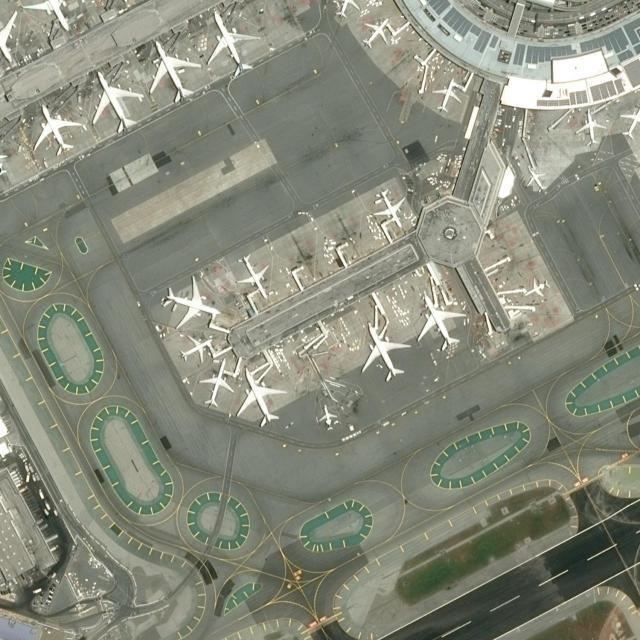Aircraft: (207, 11, 261, 80), (92, 72, 144, 136), (150, 42, 202, 106), (162, 277, 222, 332), (416, 295, 467, 354), (360, 325, 410, 385), (236, 368, 286, 428), (32, 104, 82, 158), (235, 253, 269, 304), (21, 0, 73, 32), (199, 362, 233, 408), (373, 190, 405, 230), (575, 109, 607, 147), (177, 334, 213, 366), (432, 77, 462, 115), (0, 10, 18, 65), (361, 17, 389, 49), (619, 102, 640, 142), (526, 165, 550, 193), (331, 0, 360, 19), (318, 405, 338, 431), (525, 279, 549, 299)
